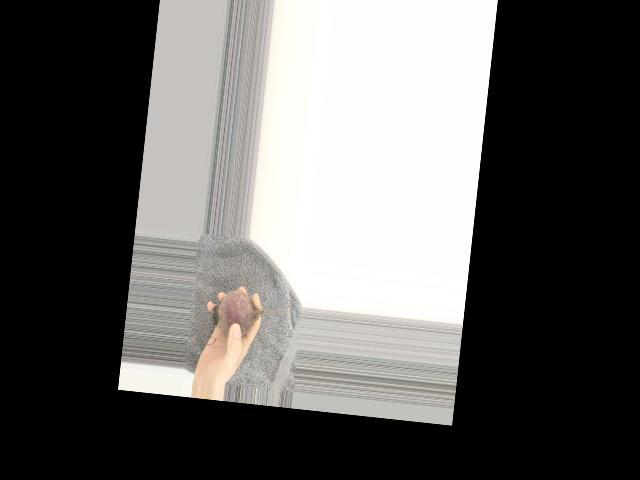beet: (210, 287, 292, 343)
